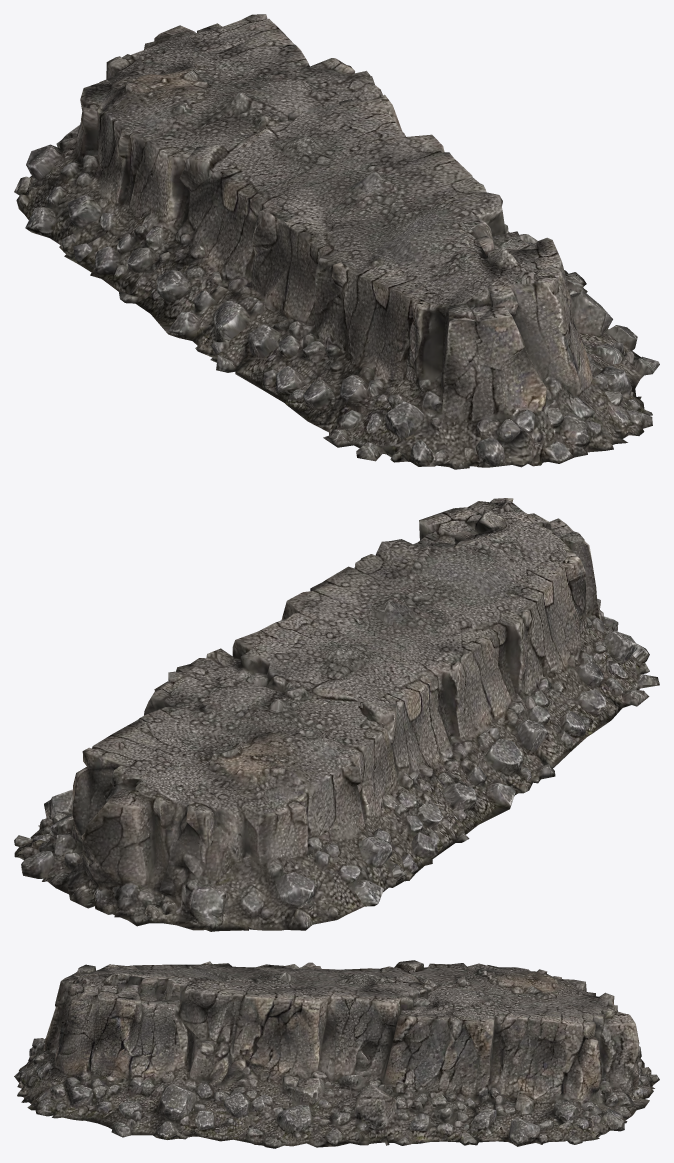
The model's file is rock-mercury-scarp.glb.
3 renders of one model, top to bottom at view 1: azimuth 30°, elevation 25°; view 2: azimuth 150°, elevation 25°; view 3: azimuth 270°, elevation 25°, orthographic. The views are drawn at different scales.
Visible parts, largest first — view 1: lod0; view 2: lod0; view 3: lod0.
Part boxes in pixels (<box>): lod0: <box>14,14,659,469</box>; lod0: <box>14,498,659,931</box>; lod0: <box>14,960,659,1148</box>.
Size of what is drawn, in the model's own units: 0.4697 by 0.1891 by 0.9988.
1 material, 1 textured.
